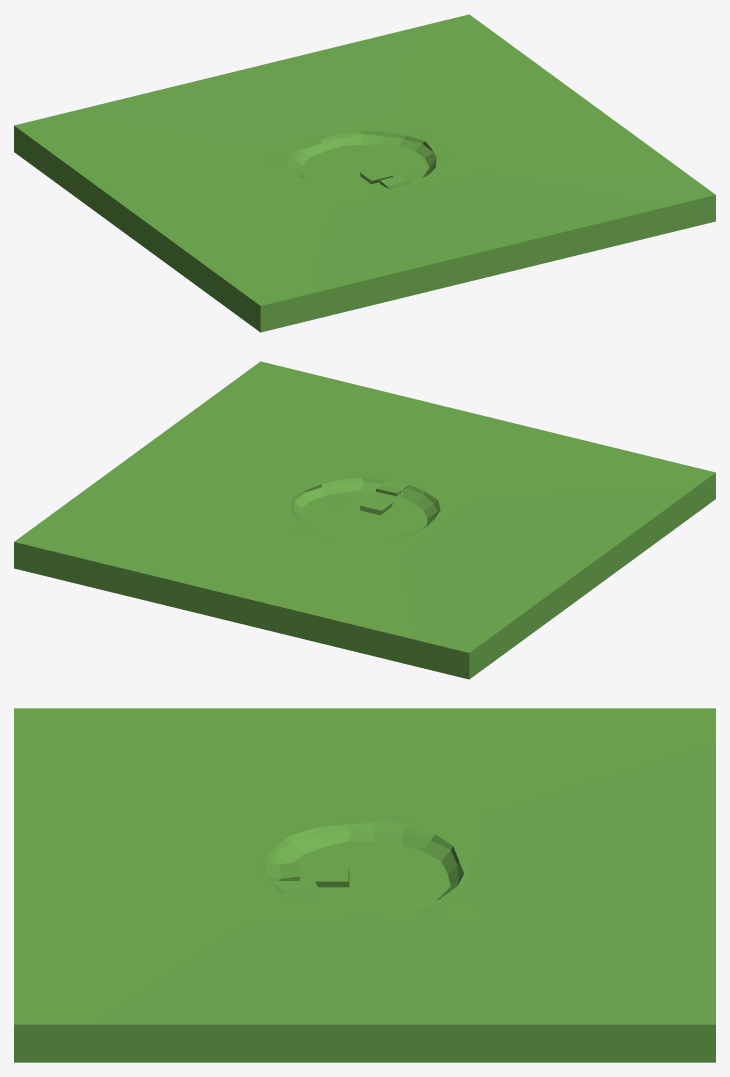
Rendered from FLOOR.fbx.
The picture shows the model from 3 angles, top to bottom: view 1: azimuth 30°, elevation 25°; view 2: azimuth 150°, elevation 25°; view 3: azimuth 270°, elevation 25°; orthographic projection. The views are drawn at different scales.
Visible parts, largest first — view 1: Cube.095; view 2: Cube.095; view 3: Cube.095.
Boxes of the visible parts, x1,y1,x2,y2 form: Cube.095: [14, 14, 715, 332]; Cube.095: [14, 361, 715, 679]; Cube.095: [14, 708, 715, 1062].
Bounding box in the file's own units: 30711 × 1711 × 28809.
